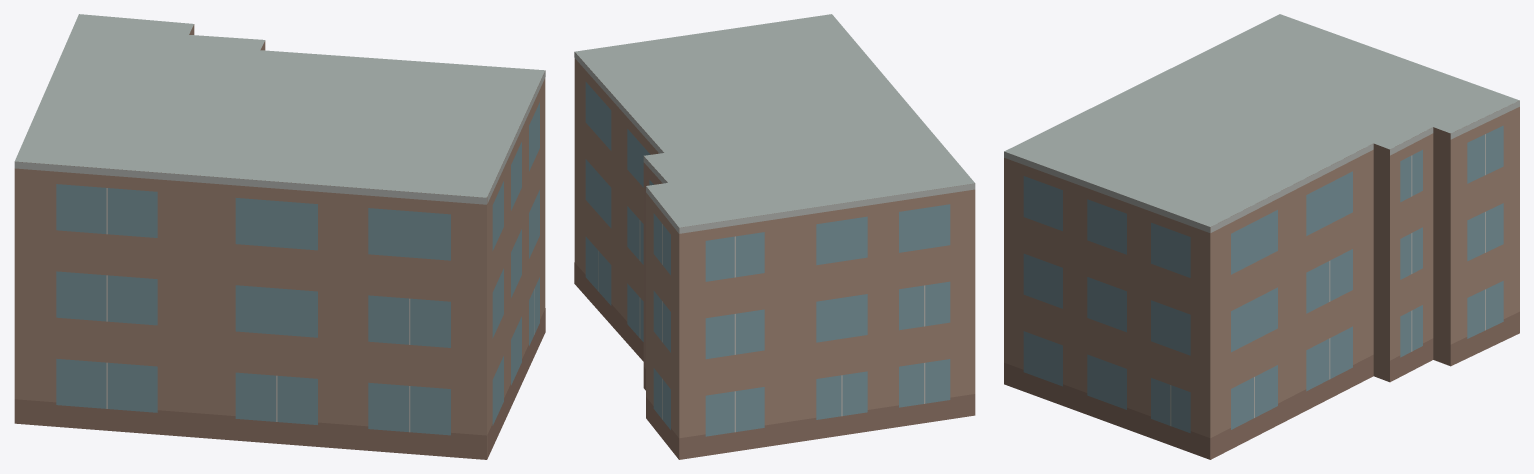
File: survey-upis-32675504.glb
3 views of the same model, side by side, from view 1: azimuth 30°, elevation 25°; view 2: azimuth 150°, elevation 25°; view 3: azimuth 270°, elevation 25° (orthographic). The views are drawn at different scales.
Parts seen in each view (by area): view 1: survey-upis-32675504.tmp; view 2: survey-upis-32675504.tmp; view 3: survey-upis-32675504.tmp.
Boxes of the visible parts, box(x1,y1,x2,y2) form: survey-upis-32675504.tmp: box(14, 14, 545, 459); survey-upis-32675504.tmp: box(574, 14, 975, 459); survey-upis-32675504.tmp: box(1004, 14, 1519, 459).
Bounding box in the file's own units: 17.97 × 9.15 × 18.38.
